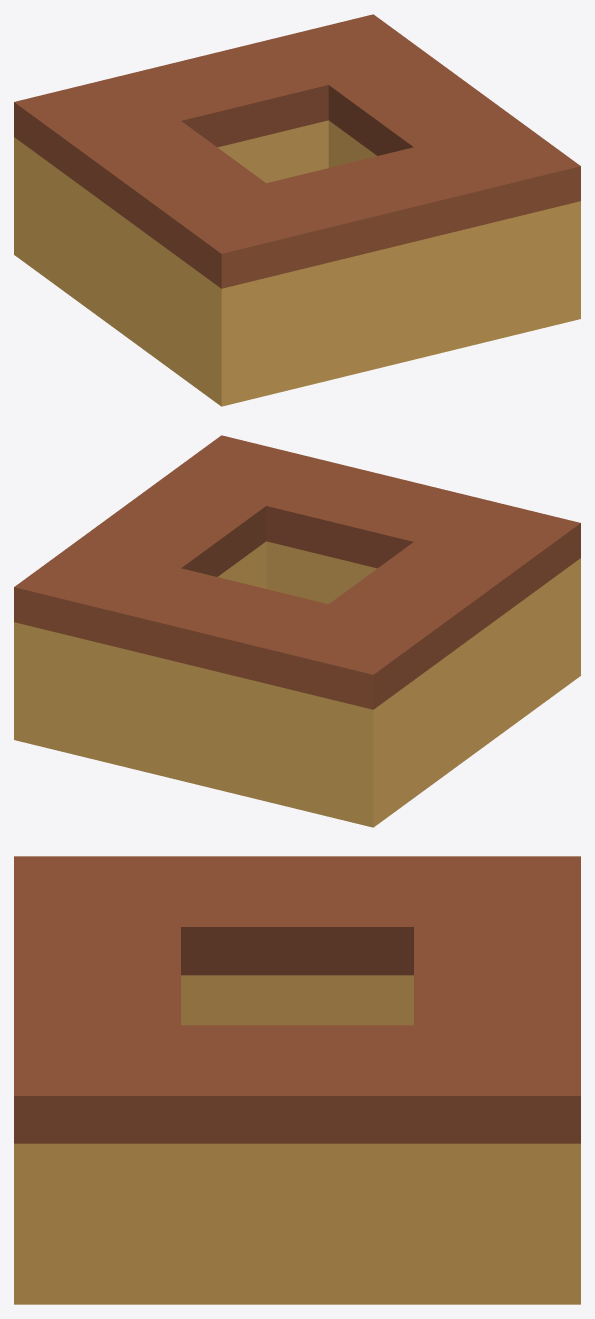
The model's file is Donut1.glb.
3 renders of one model, top to bottom at view 1: azimuth 30°, elevation 25°; view 2: azimuth 150°, elevation 25°; view 3: azimuth 270°, elevation 25°, orthographic. The views are drawn at different scales.
Parts seen in each view (by area): view 1: SI_Food_Bakery_Donut_01; view 2: SI_Food_Bakery_Donut_01; view 3: SI_Food_Bakery_Donut_01.
Part boxes in pixels (x1,y1,x2,y2): SI_Food_Bakery_Donut_01: (14,14,580,406); SI_Food_Bakery_Donut_01: (14,435,580,827); SI_Food_Bakery_Donut_01: (14,856,580,1304).
Size of the model in its own units: 0.00426 by 0.00173 by 0.00426.
1 material, 1 textured.
